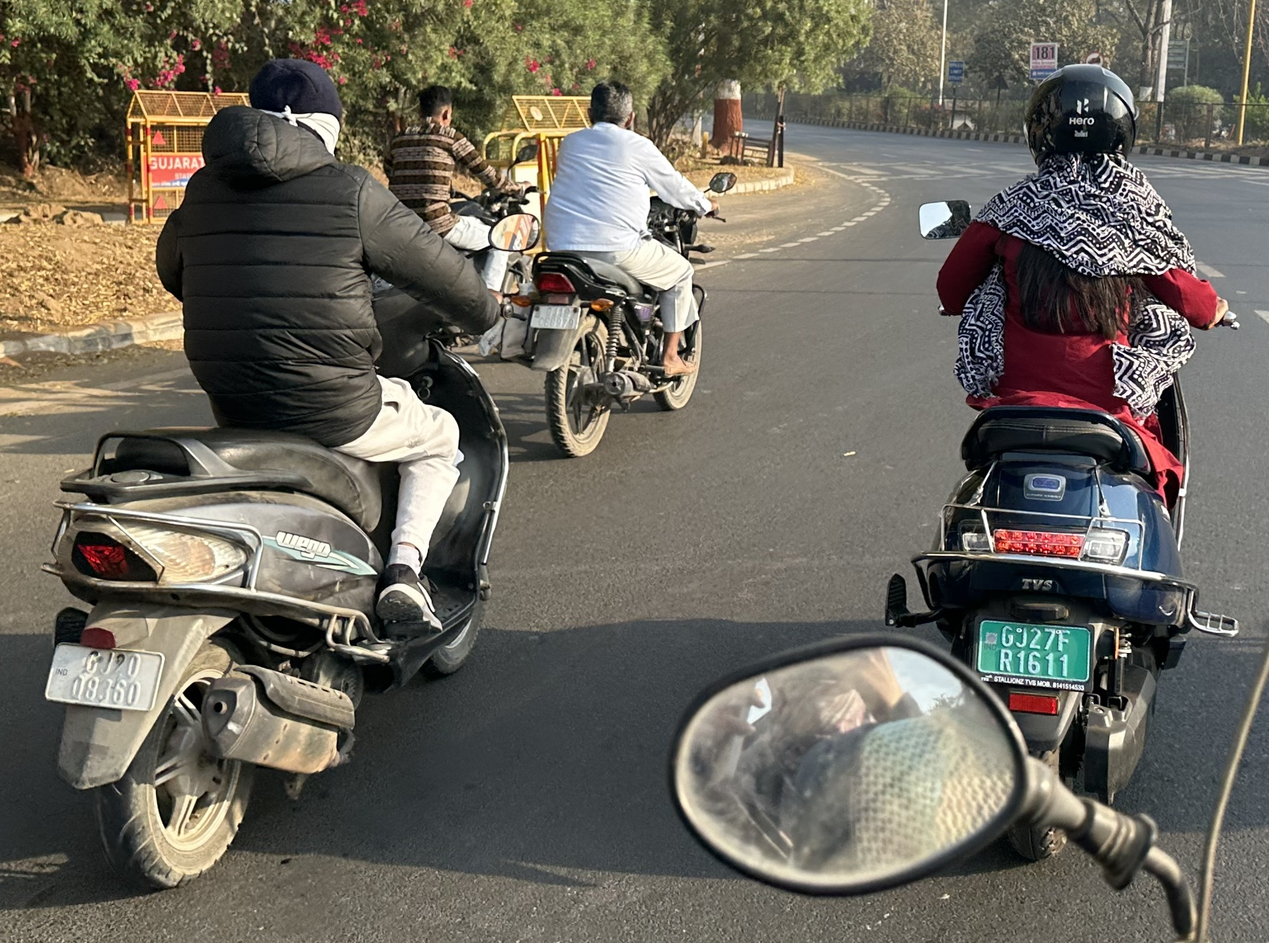BikeWithRider: (29, 44, 532, 903), (876, 53, 1250, 841), (518, 67, 741, 464), (382, 79, 527, 353)
Helmet: (1013, 56, 1147, 182)
NoHelmet: (233, 53, 351, 165), (578, 71, 642, 136), (409, 81, 463, 137)
